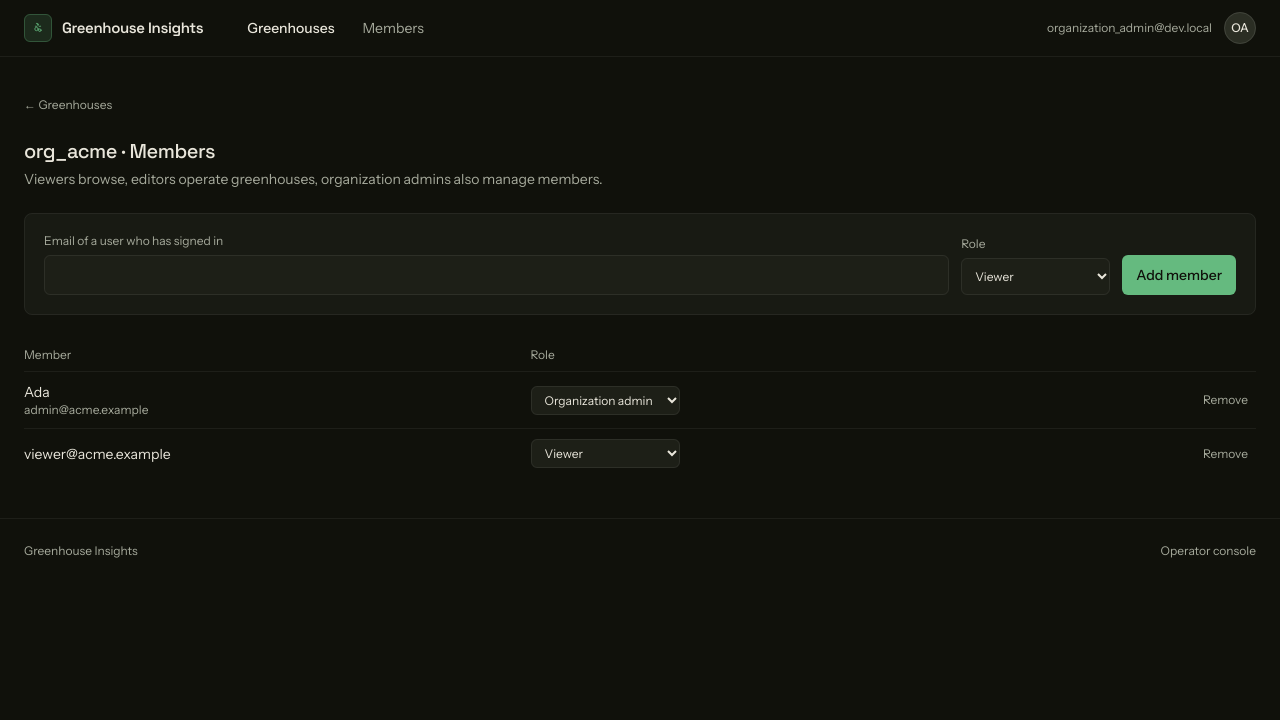
OrganizationMembersPage › removes a member
Check: the text "Ada" is shown, box [24,383,50,401]
Step 1. Click the button "Remove" in the row of "viewer@acme.example" → (1225,454), box [1195,442,1256,466]
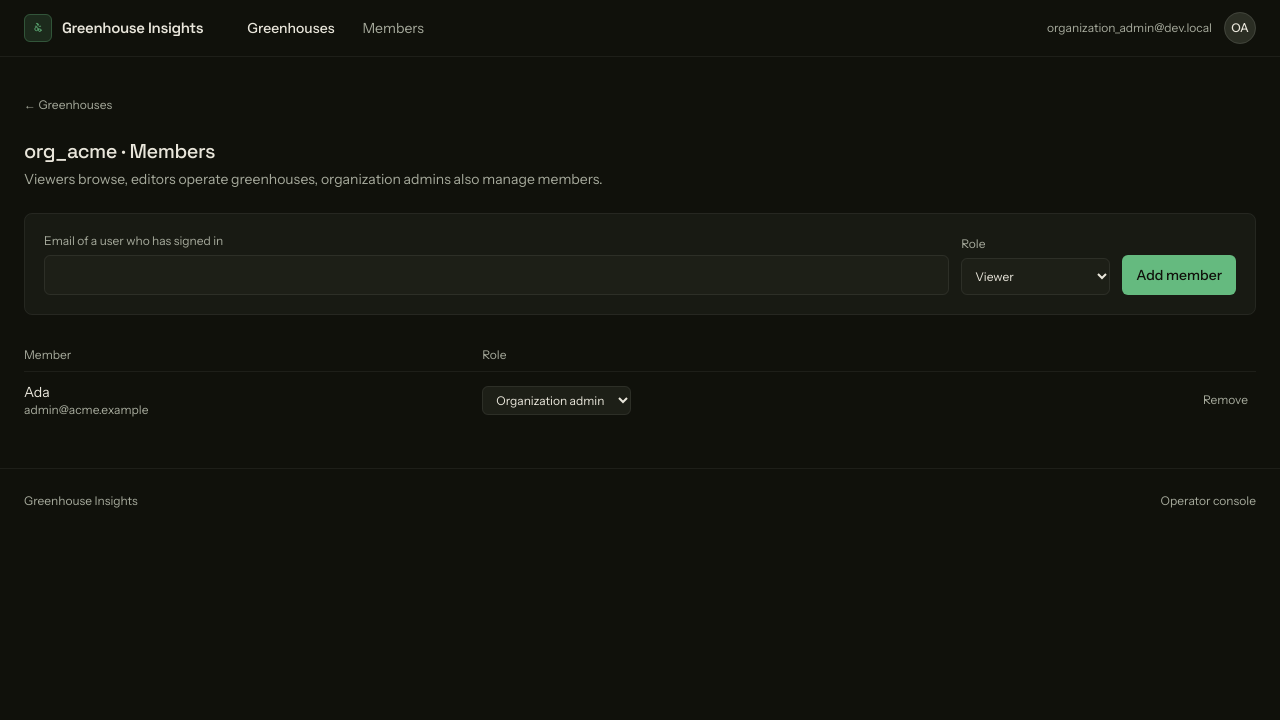
Check: the text "viewer@acme.example" is gone
